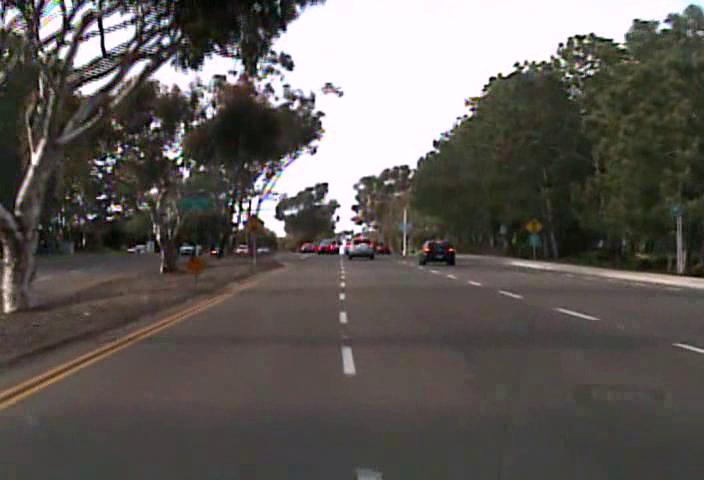signalAhead: (524, 216, 543, 236)
